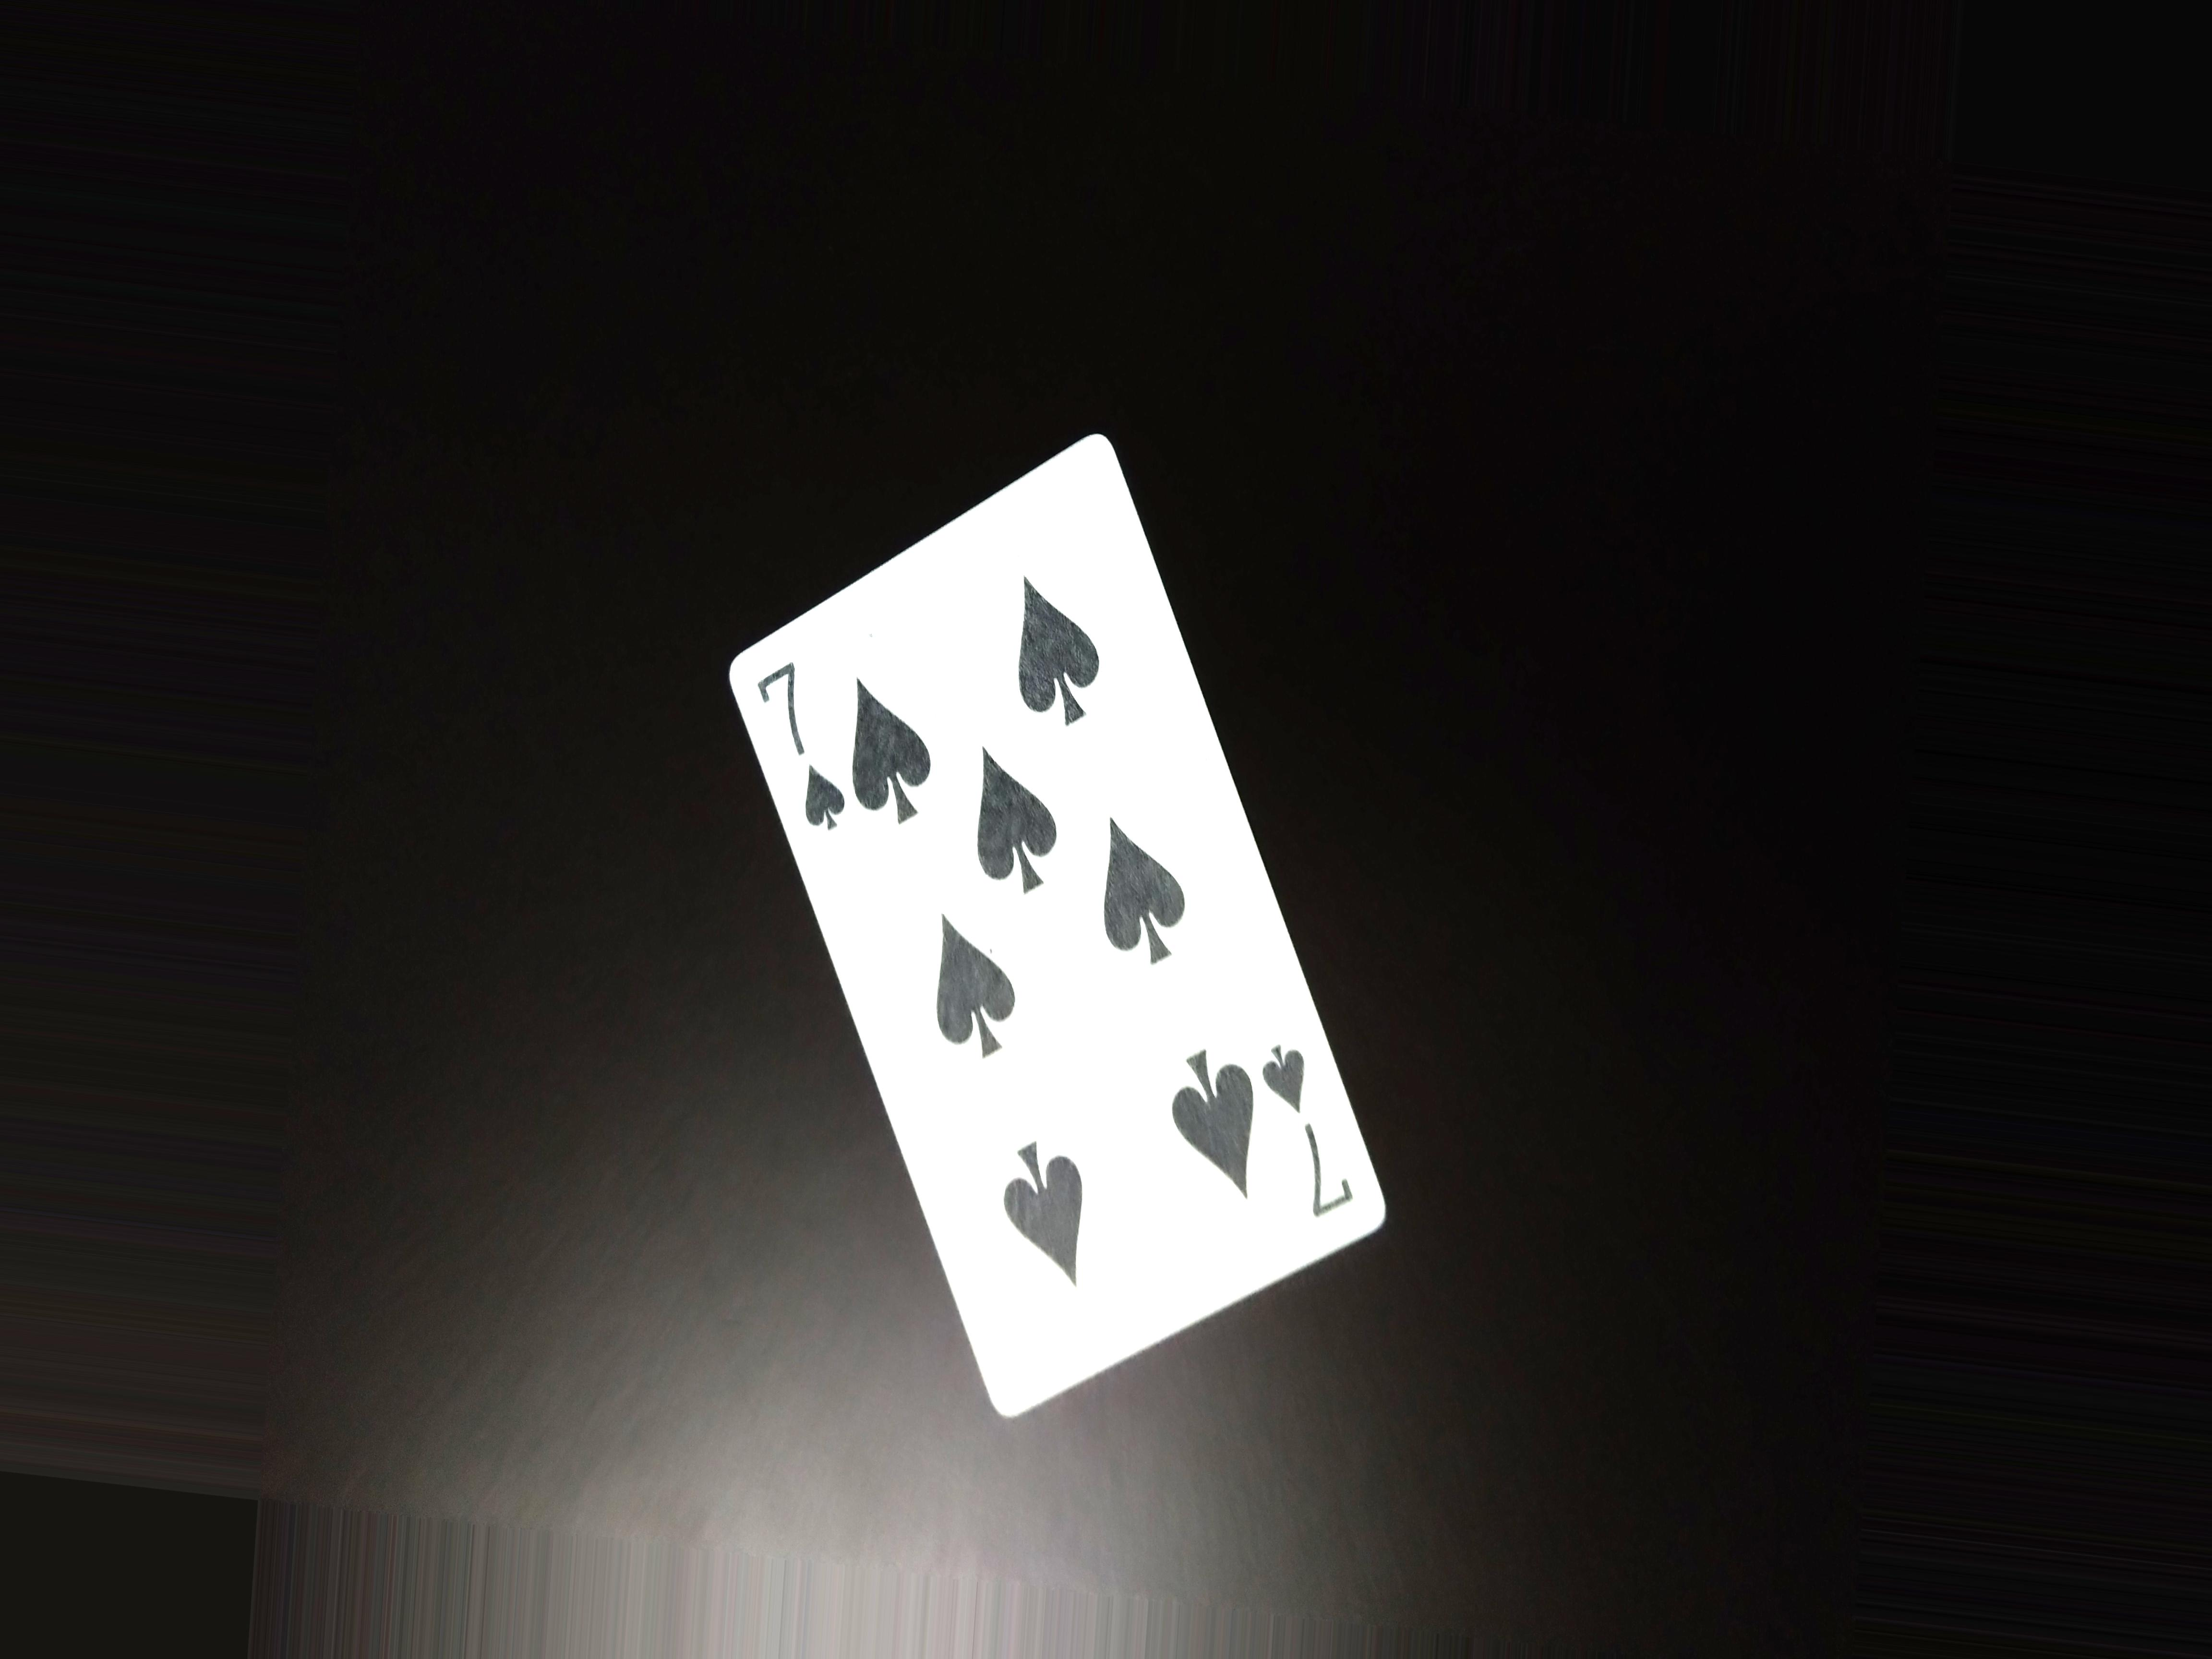7S: (754, 650, 866, 870)
